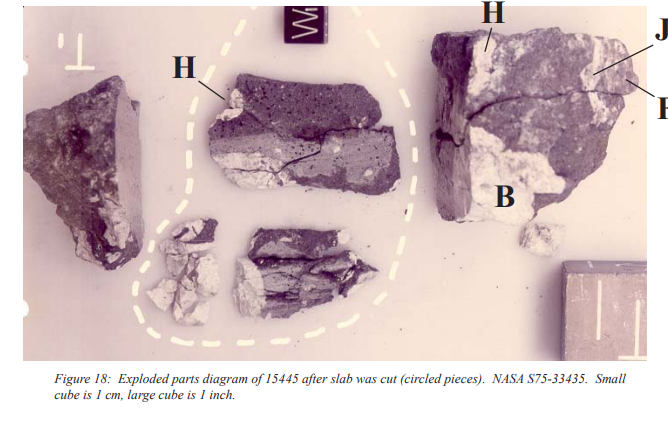Breccia: (410, 28, 634, 212), (17, 67, 180, 281), (215, 38, 407, 217), (231, 227, 381, 315), (144, 204, 221, 343)
